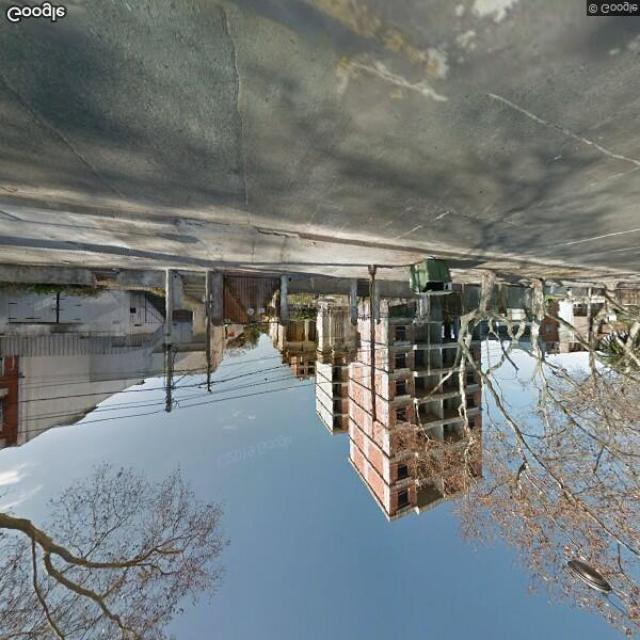garbage container: (403, 253, 461, 302)
